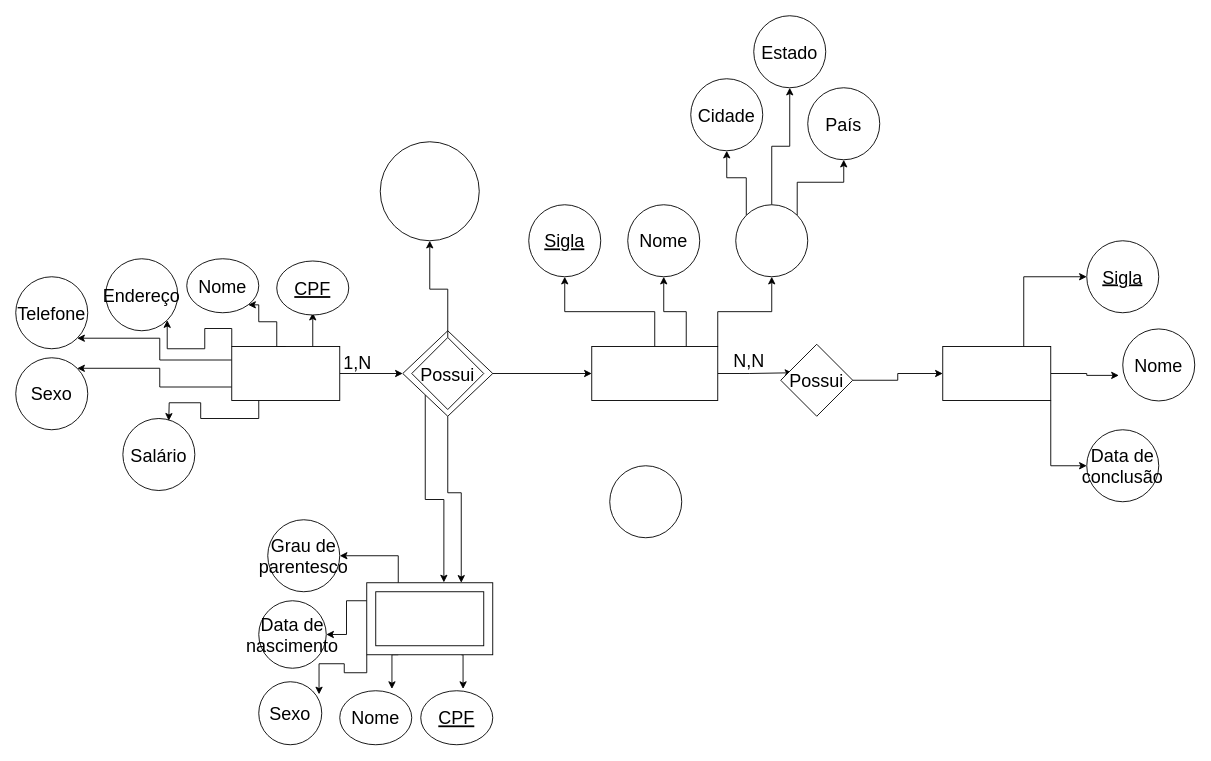
Some shapes in this 1211 by 761 pixel diagram are drawn without their labels. Here are the shapes that lost their labels. From the top down, the centre of each, then its label:
At pixel 429 191: "Horas trabalhadas".
At pixel 771 240: "Local".
At pixel 285 373: "Funcionário".
At pixel 654 373: "Departamento".
At pixel 996 373: "Projeto".
At pixel 645 501: "Pão".
At pixel 429 618: "Dependente".
